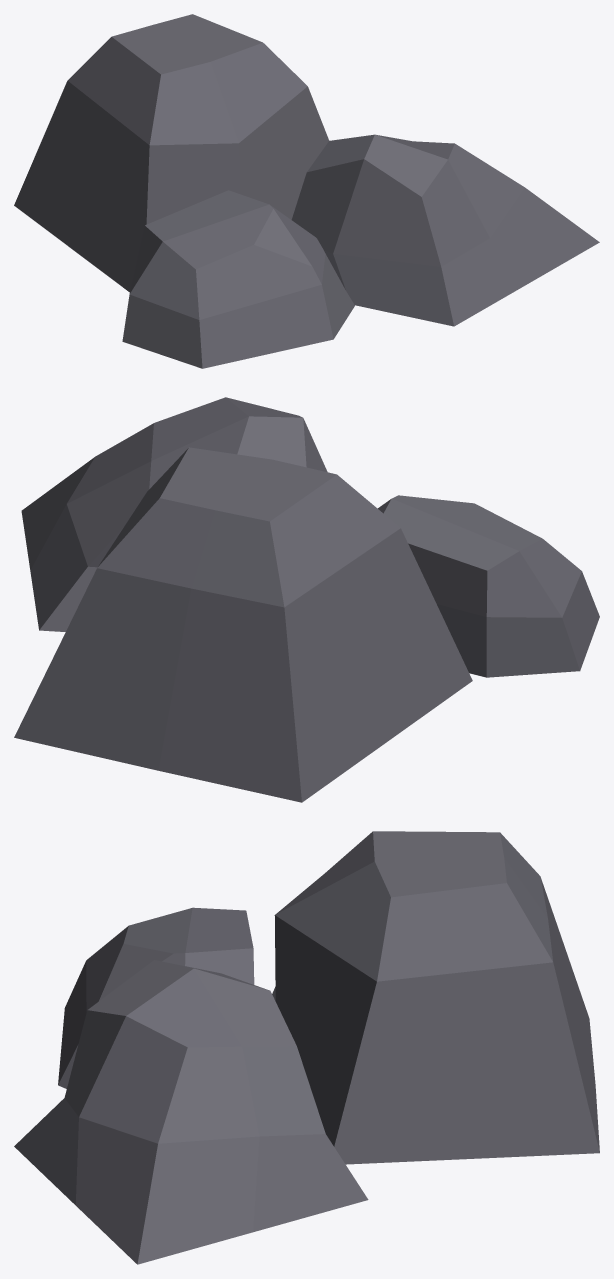
Rendered from rock3.fbx.
The picture shows the model from 3 angles, top to bottom: view 1: azimuth 30°, elevation 25°; view 2: azimuth 150°, elevation 25°; view 3: azimuth 270°, elevation 25°; orthographic projection. The views are drawn at different scales.
Parts seen in each view (by area): view 1: rock_3; view 2: rock_3; view 3: rock_3.
Boxes of the visible parts, left/top/right/bottom form: rock_3: left=14, top=14, right=599, bottom=368; rock_3: left=14, top=397, right=599, bottom=802; rock_3: left=14, top=831, right=599, bottom=1264.
Size of the model in its own units: 397 by 151 by 354.
